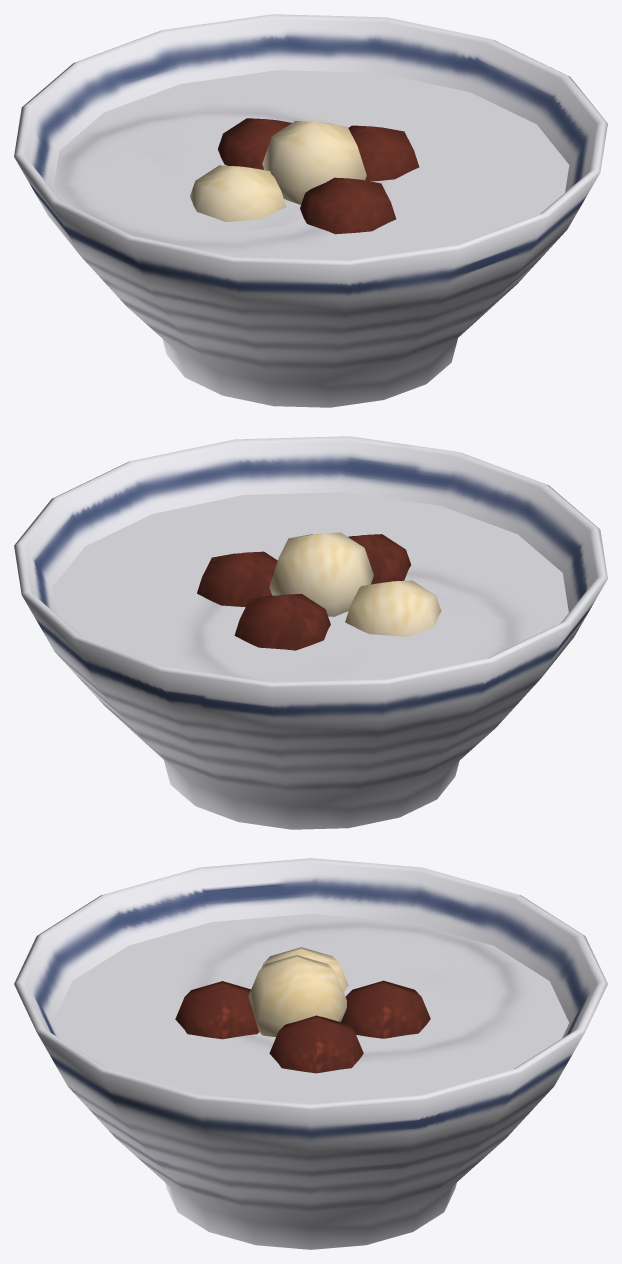
File: Taro_Ball_Tofu.fbx
3 renders of one model, top to bottom at view 1: azimuth 30°, elevation 25°; view 2: azimuth 150°, elevation 25°; view 3: azimuth 270°, elevation 25°, orthographic.
Parts seen in each view (by area): view 1: Taro_Ball_Tofu, 立方體.025, 立方體.051, 立方體.044, 立方體.043, 立方體.046, 立方體.045; view 2: Taro_Ball_Tofu, 立方體.025, 立方體.051, 立方體.045, 立方體.044, 立方體.046, 立方體.043; view 3: Taro_Ball_Tofu, 立方體.025, 立方體.051, 立方體.046, 立方體.045, 立方體.043, 立方體.044.
Boxes of the visible parts, x1,y1,x2,y2 form: Taro_Ball_Tofu: (14,14,607,407); 立方體.025: (53,70,569,260); 立方體.051: (262,121,366,204); 立方體.044: (190,165,286,222); 立方體.043: (300,177,396,234); 立方體.046: (348,125,419,181); 立方體.045: (218,118,291,169); Taro_Ball_Tofu: (14,436,607,829); 立方體.025: (52,492,568,682); 立方體.051: (269,532,373,616); 立方體.045: (234,594,330,650); 立方體.044: (345,580,441,636); 立方體.046: (197,551,277,607); 立方體.043: (348,534,410,584); Taro_Ball_Tofu: (14,858,607,1249); 立方體.025: (53,913,568,1104); 立方體.051: (248,955,346,1037); 立方體.046: (269,1015,363,1073); 立方體.045: (341,980,430,1038); 立方體.043: (175,981,259,1039); 立方體.044: (261,947,348,991).
Bounding box in the file's own units: 3.68 × 3.68 × 1.57.
1 material, 1 textured.
